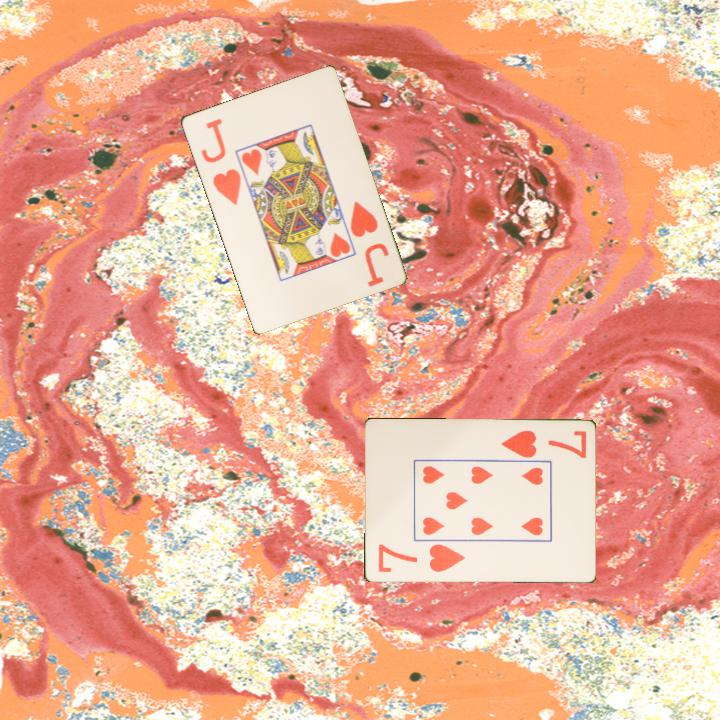7h: (375, 541, 468, 575), (497, 426, 589, 460)
Jh: (197, 115, 244, 208), (346, 197, 381, 240)
